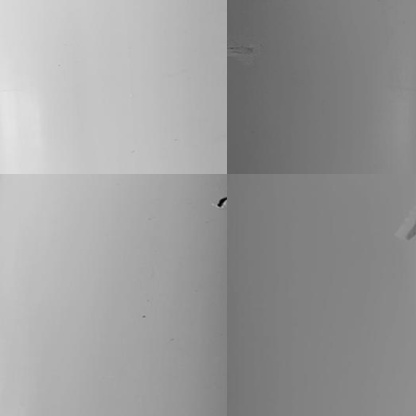kongdong: (212, 194, 227, 209)
sunshang: (229, 40, 259, 67), (395, 214, 416, 244)
